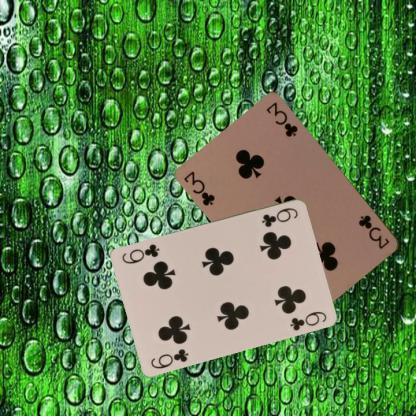3c: (181, 168, 217, 208), (356, 212, 391, 250)
6c: (148, 345, 190, 370), (259, 204, 299, 228)
